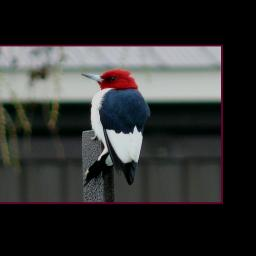Woodpecker: (80, 65, 152, 190)
